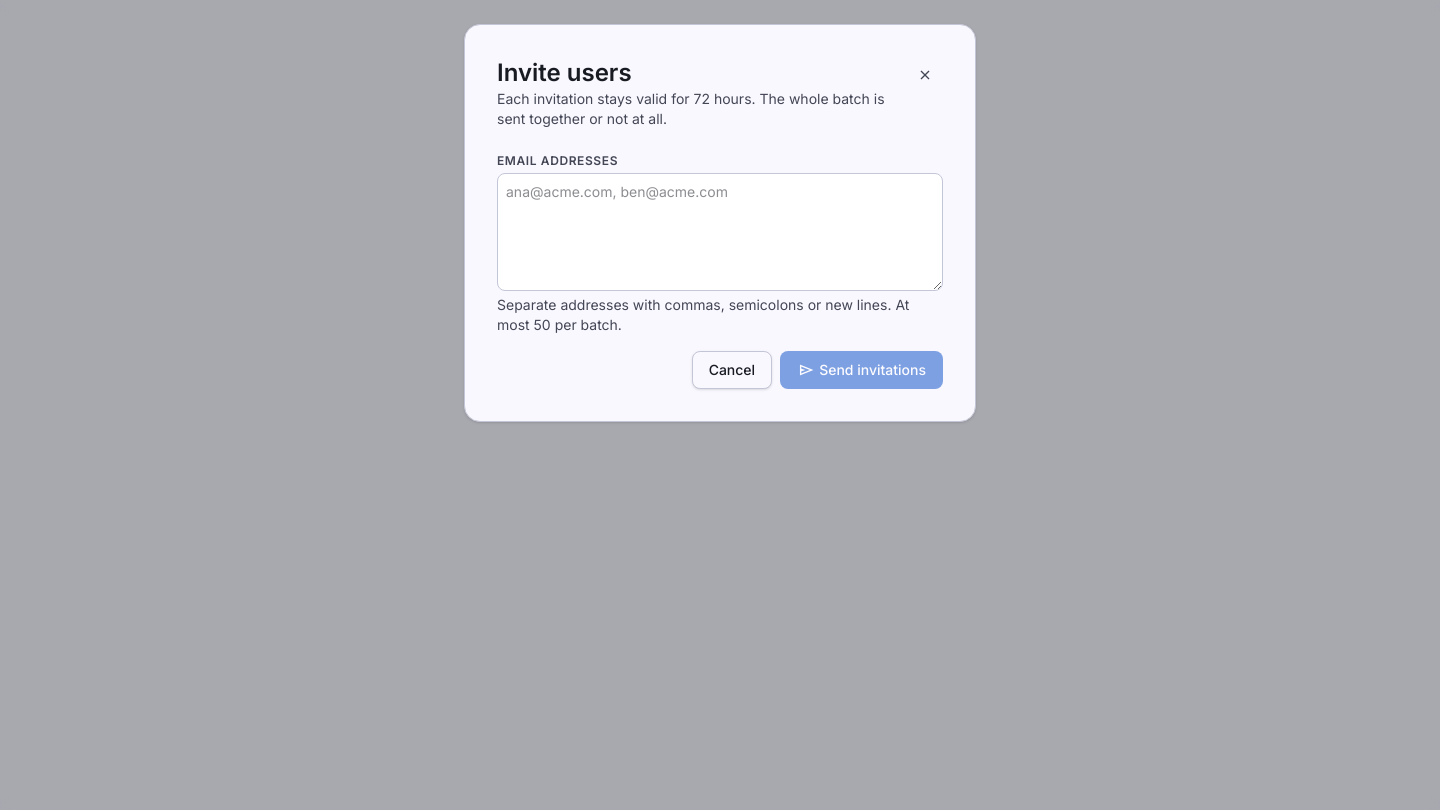
Test case: InviteUsersDialog › says seats are unlimited when the tenant has no cap
Step 1. Type "ana@acme.test" into the text box labelled "Email addresses" → (720, 232), box x1=497 y1=173 x2=943 y2=291
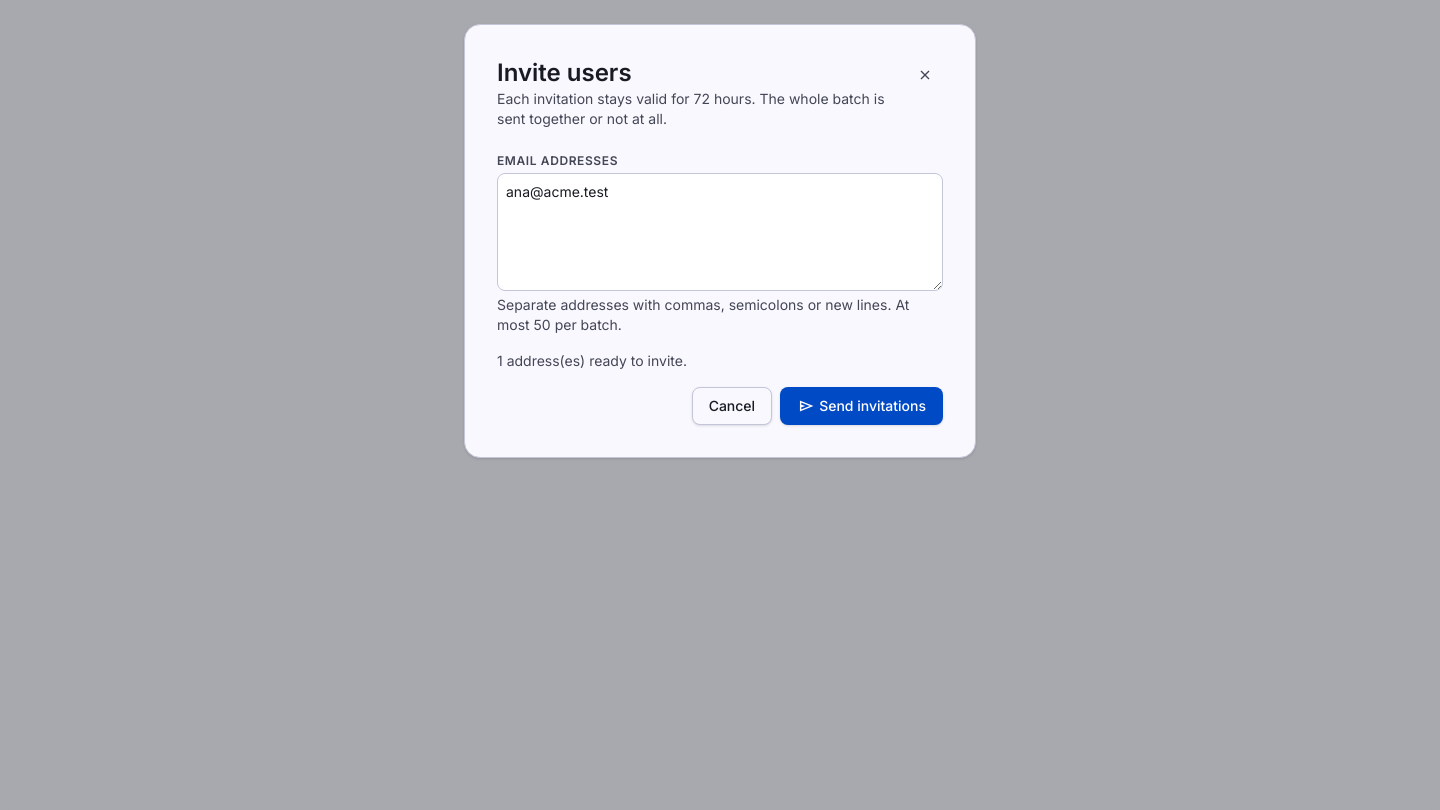
Step 2. Click the button "Send invitations" → (862, 406), box x1=780 y1=387 x2=943 y2=425
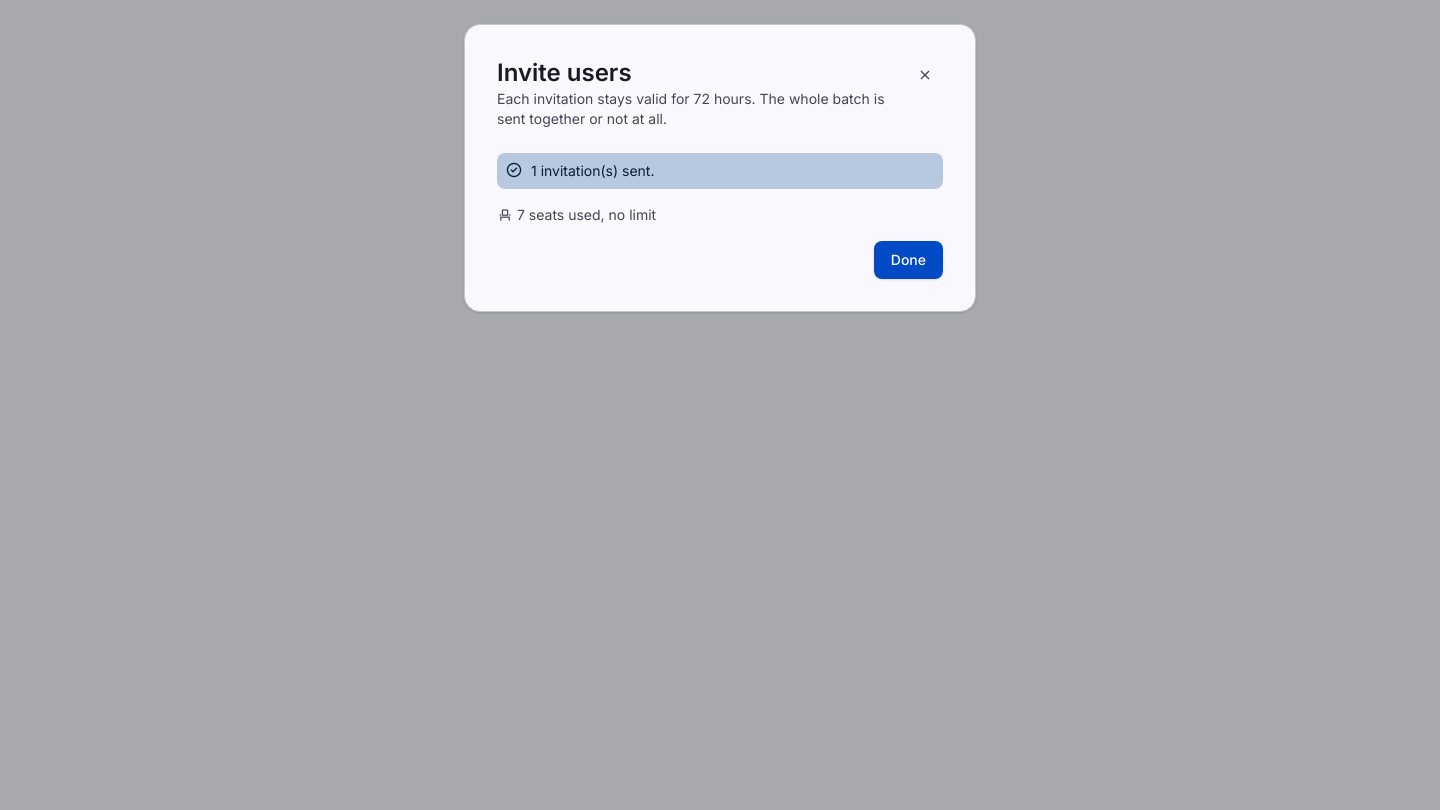
expect the text "7 seats used, no limit" is shown: met, box x1=517 y1=205 x2=656 y2=225
